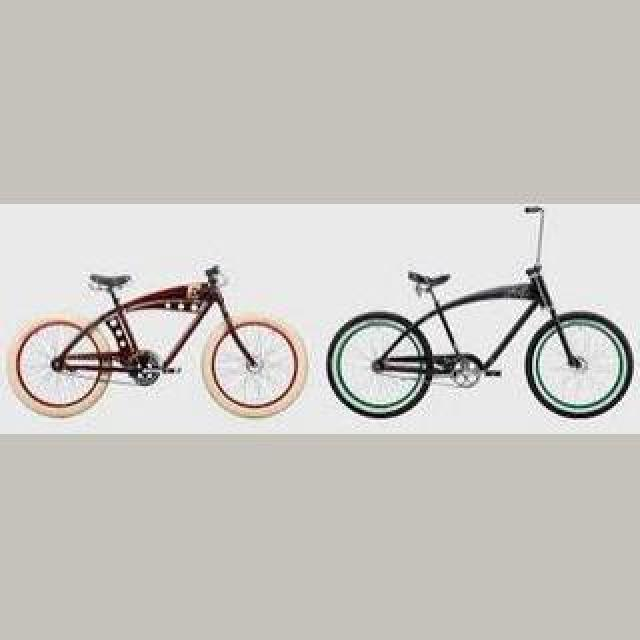Person: (325, 208, 635, 420), (9, 260, 307, 422)
